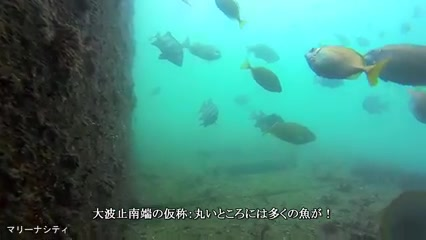azi: (300, 39, 387, 88)
smallfish: (240, 58, 288, 96)
